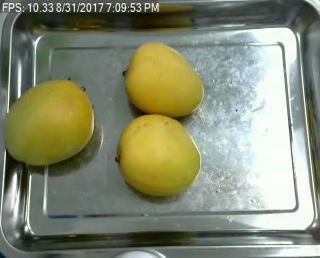Mango: (5, 78, 95, 165), (117, 113, 201, 195), (124, 42, 202, 114)
